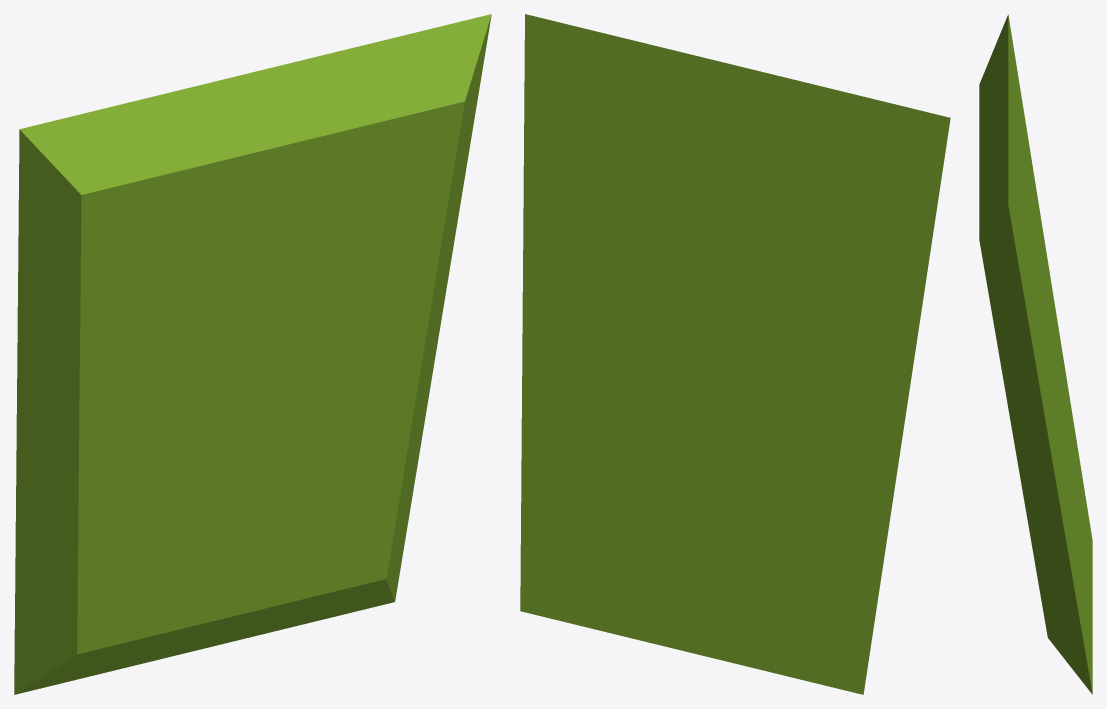
Rendered from top_g.glb.
The picture shows the model from 3 angles, left to right: view 1: azimuth 30°, elevation 25°; view 2: azimuth 150°, elevation 25°; view 3: azimuth 270°, elevation 25°; orthographic projection. The views are drawn at different scales.
Visible parts, largest first — view 1: Top; view 2: Top; view 3: Top.
Boxes of the visible parts, x1,y1,x2,y2 form: Top: [14, 14, 491, 694]; Top: [520, 14, 950, 694]; Top: [979, 14, 1092, 694].
Size of the model in its own units: 0.8184 by 1.02 by 0.2056.
1 material, 1 textured.
